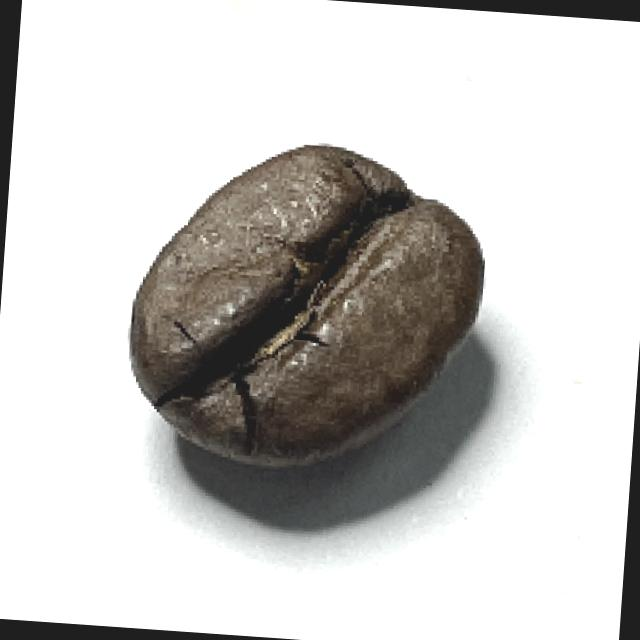bean: (115, 126, 498, 488)
